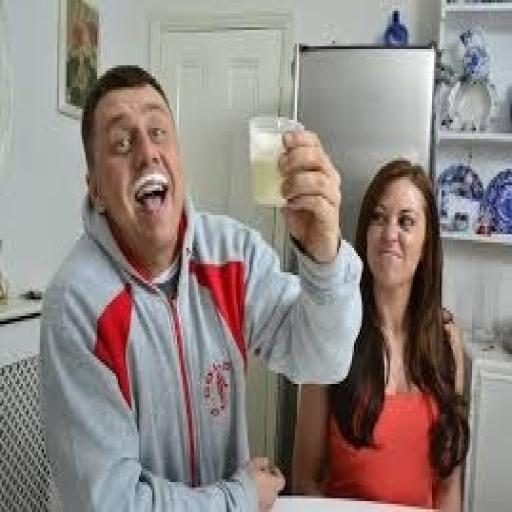drinking: (248, 114, 304, 207)
